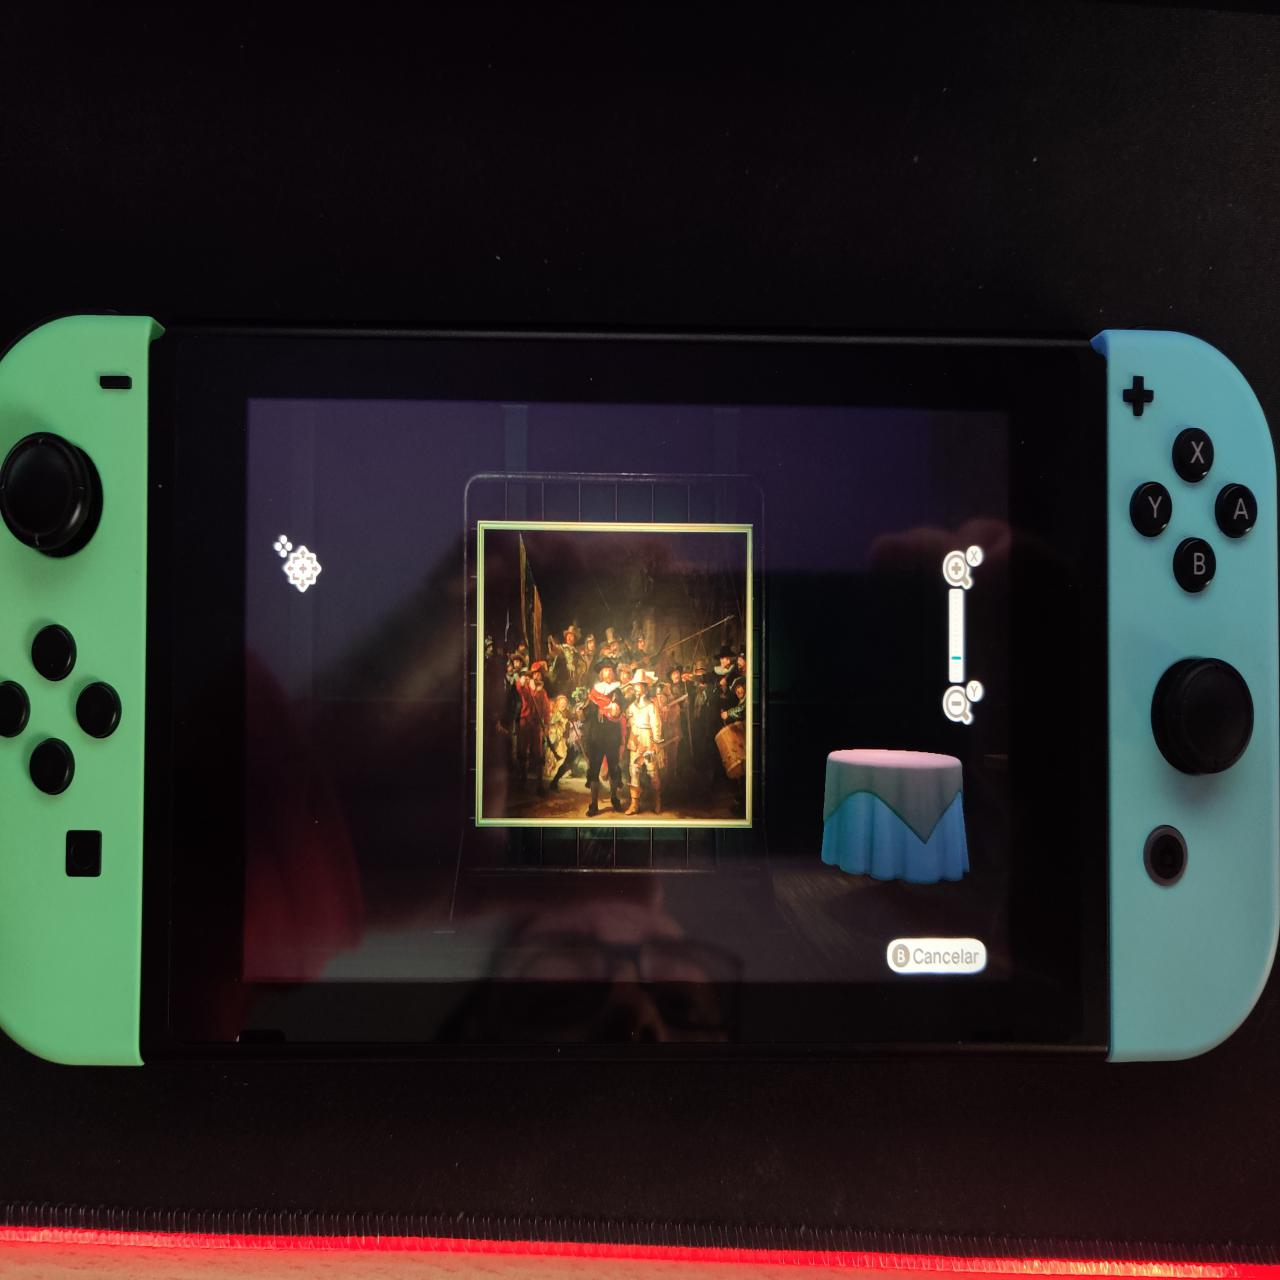NightWatch: (486, 532, 747, 822)
